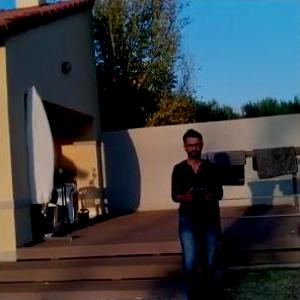follow: (165, 122, 227, 299)
